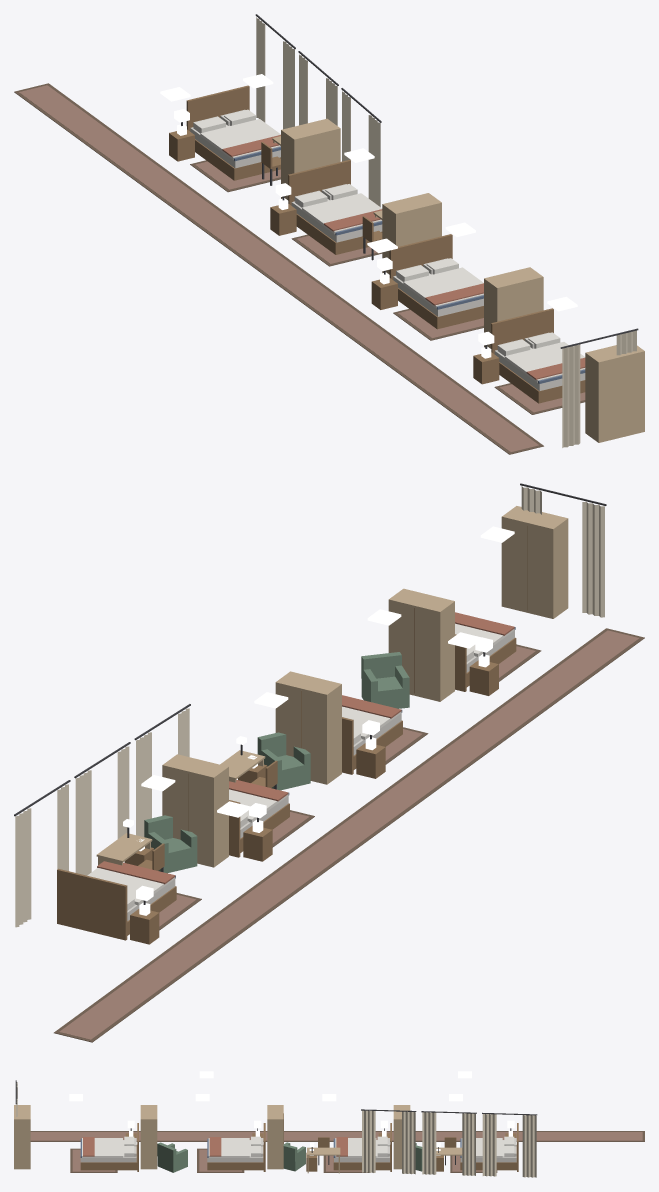
Rendered from fine-s1.glb.
3 views of the same model, one above another, from view 1: azimuth 30°, elevation 25°; view 2: azimuth 150°, elevation 25°; view 3: azimuth 270°, elevation 25° (orthographic). The views are drawn at different scales.
Parts seen in each view (by area): view 1: soft-s1, dresser.003, bed-frame.002, bed-frame.000, bed-frame.001, bed-frame.003, dresser.000, dresser.002, dresser.001, nightstand.001, nightstand.003, nightstand.002 (+1 smaller); view 2: soft-s1, dresser.003, dresser.002, dresser.001, dresser.000, bed-frame.000, lounge-chair.002, lounge-chair.001, lounge-chair.000, bed-frame.002, bed-frame.003, bed-frame.001 (+6 smaller); view 3: soft-s1, dresser.002, dresser.001, dresser.003, bed-frame.002, bed-frame.003, bed-frame.001, lounge-chair.002, dresser.000, bed-frame.000, lounge-chair.001, writing-desk.001 (+3 smaller).
Boxes of the visible parts, bbox=[...] form: soft-s1: bbox=[14, 14, 638, 454]; dresser.003: bbox=[585, 345, 644, 442]; bed-frame.002: bbox=[389, 234, 483, 329]; bed-frame.000: bbox=[186, 85, 280, 180]; bed-frame.001: bbox=[288, 160, 382, 254]; bed-frame.003: bbox=[491, 308, 585, 403]; dresser.000: bbox=[281, 118, 340, 199]; dresser.002: bbox=[484, 267, 543, 348]; dresser.001: bbox=[382, 193, 441, 274]; nightstand.001: bbox=[270, 198, 296, 235]; nightstand.003: bbox=[473, 346, 499, 384]; nightstand.002: bbox=[371, 272, 397, 309]; soft-s1: bbox=[14, 483, 644, 1042]; dresser.003: bbox=[501, 506, 568, 618]; dresser.002: bbox=[388, 588, 454, 701]; dresser.001: bbox=[275, 671, 341, 784]; dresser.000: bbox=[162, 754, 228, 867]; bed-frame.000: bbox=[57, 868, 176, 940]; lounge-chair.002: bbox=[361, 652, 409, 708]; lounge-chair.001: bbox=[257, 732, 310, 790]; lounge-chair.000: bbox=[144, 815, 197, 873]; bed-frame.002: bbox=[342, 710, 402, 774]; bed-frame.003: bbox=[455, 627, 516, 691]; bed-frame.001: bbox=[229, 792, 289, 857]; soft-s1: bbox=[15, 1080, 644, 1177]; dresser.002: bbox=[140, 1105, 157, 1169]; dresser.001: bbox=[267, 1105, 283, 1169]; dresser.003: bbox=[14, 1105, 30, 1169]; bed-frame.002: bbox=[207, 1123, 265, 1171]; bed-frame.003: bbox=[80, 1123, 138, 1171]; bed-frame.001: bbox=[333, 1123, 391, 1171]; lounge-chair.002: bbox=[157, 1142, 187, 1172]; dresser.000: bbox=[393, 1105, 410, 1169]; bed-frame.000: bbox=[460, 1123, 518, 1171]; lounge-chair.001: bbox=[283, 1142, 305, 1171]; writing-desk.001: bbox=[307, 1142, 340, 1173].
Size of the model in its own units: 4.06 by 2.56 by 22.73.
